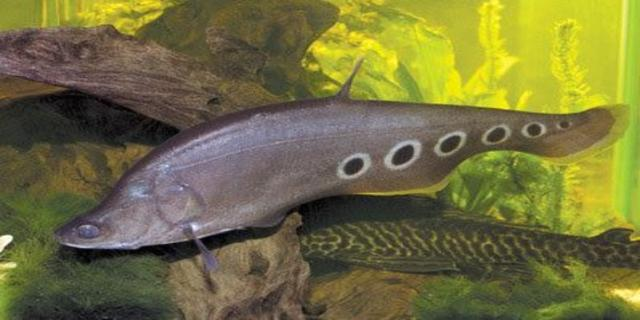Mulut: (45, 222, 118, 264)
Sirip Dada: (172, 216, 226, 278)
Sirip Punggung: (325, 48, 373, 104)
